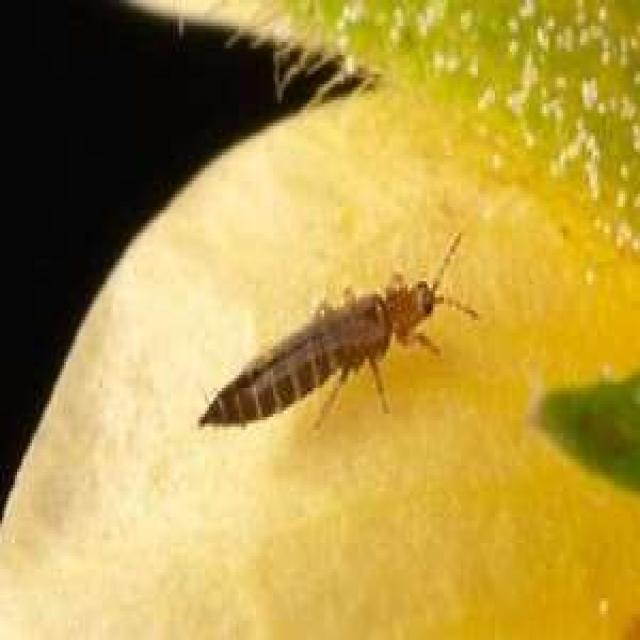Thrip-Adult-: (175, 224, 510, 459)
